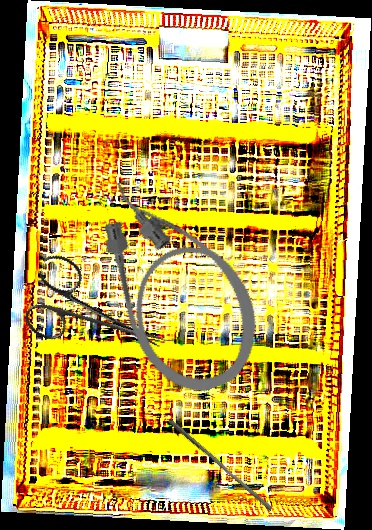Cannula: (79, 153, 277, 408)
Iris Scissors: (17, 250, 178, 380)
Pusher: (164, 418, 276, 512)
